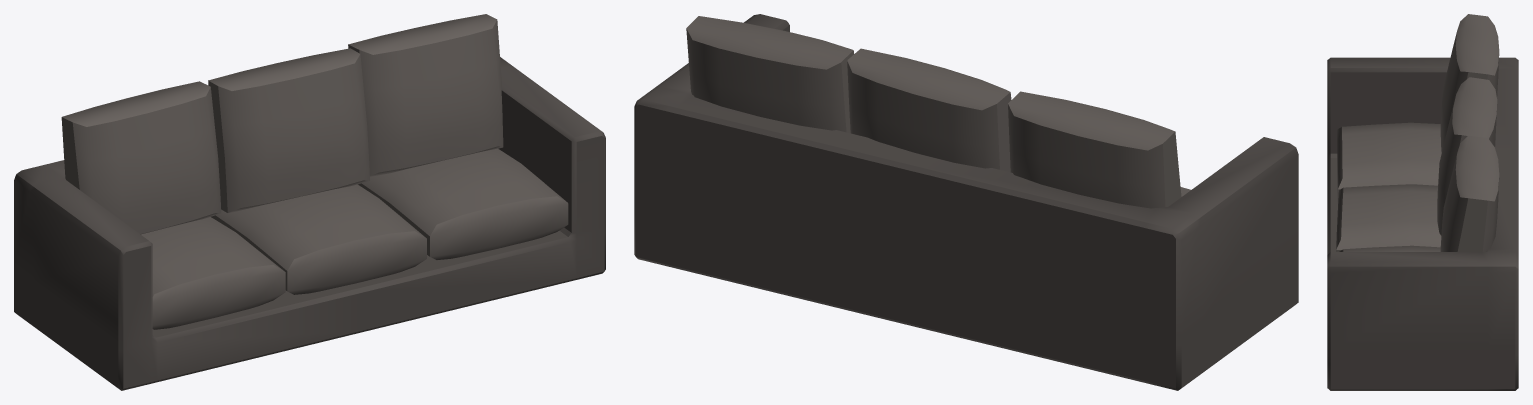
The model's file is Couch_Large2.glb.
The picture shows the model from 3 angles, left to right: view 1: azimuth 30°, elevation 25°; view 2: azimuth 150°, elevation 25°; view 3: azimuth 270°, elevation 25°; orthographic projection. The views are drawn at different scales.
Parts seen in each view (by area): view 1: Couch_Large2; view 2: Couch_Large2; view 3: Couch_Large2.
Part boxes in pixels (left/top/right/bottom): Couch_Large2: left=14, top=14, right=605, bottom=390; Couch_Large2: left=634, top=14, right=1298, bottom=390; Couch_Large2: left=1327, top=14, right=1518, bottom=390.
Size of the model in its own units: 2.54 by 1.03 by 0.9742.
Materials: 2 (2 with a texture image).
